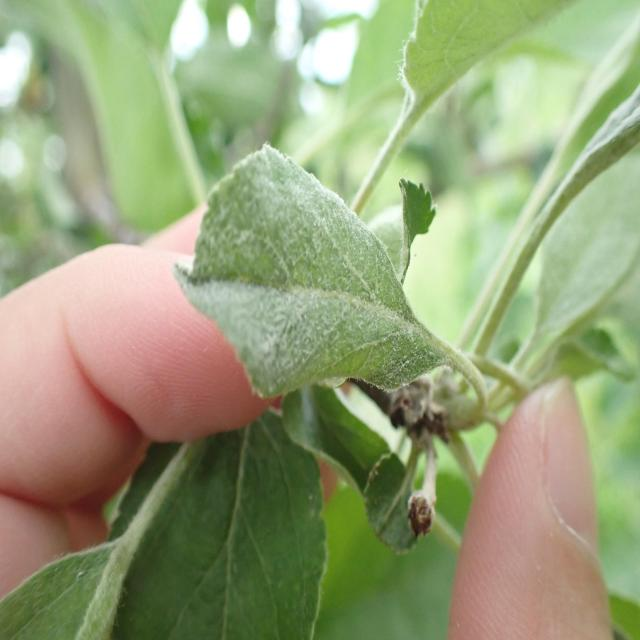Powdery_mildew: (167, 126, 484, 428)
